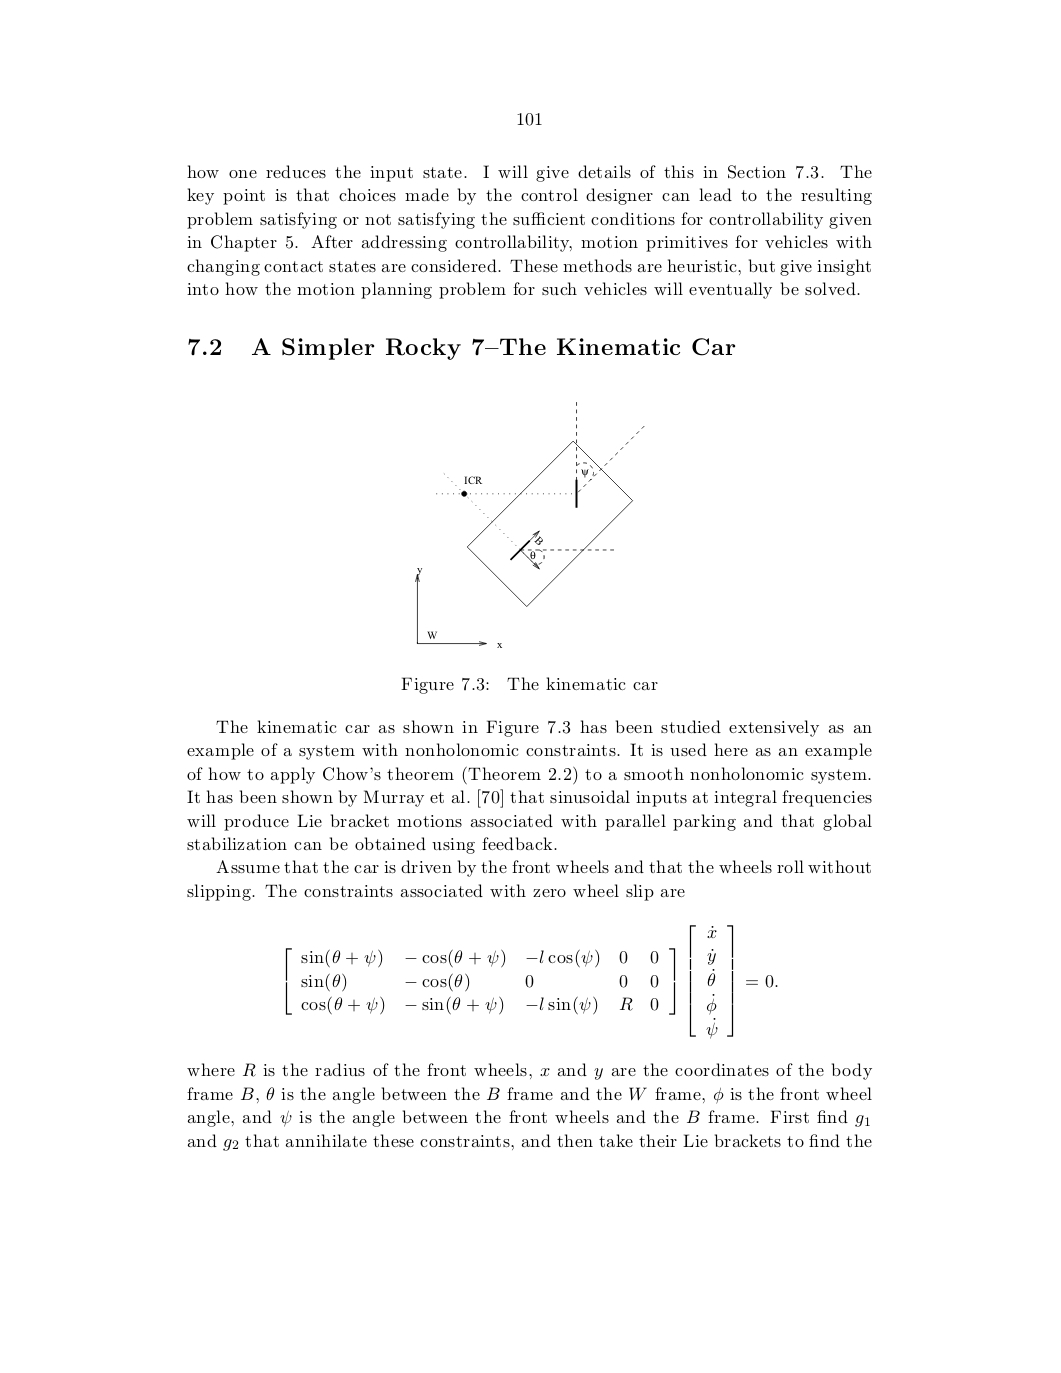figure: (415, 402, 644, 647)
formula: (285, 924, 777, 1039)
